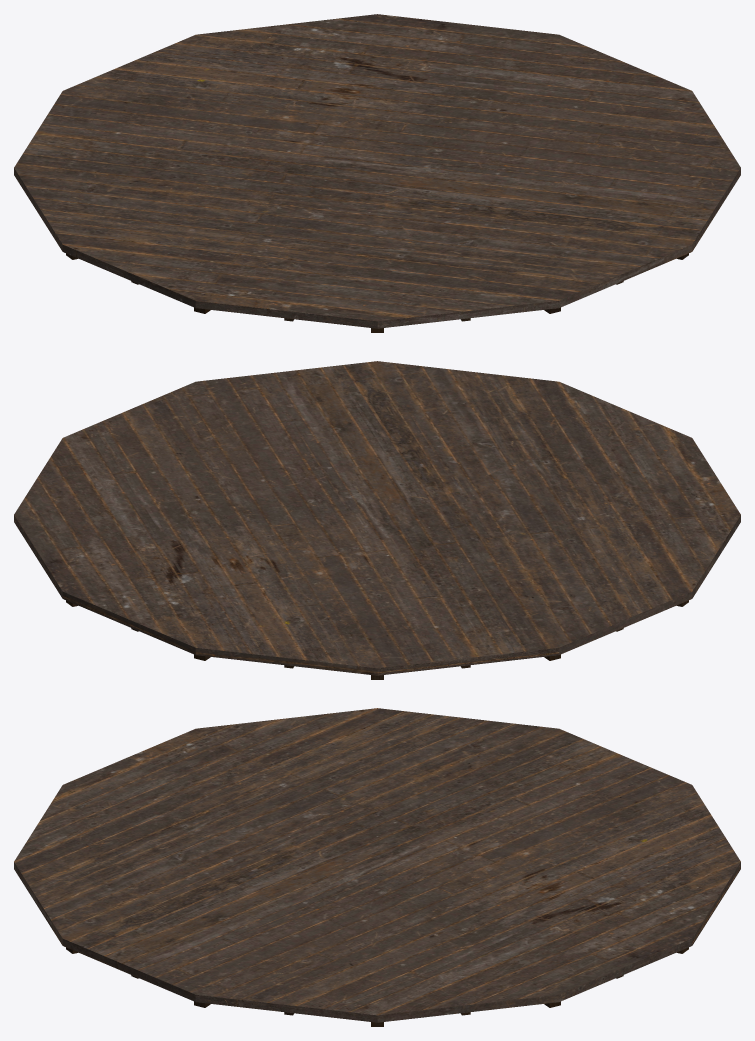
File: Podłoga4_1.fbx
The picture shows the model from 3 angles, top to bottom: view 1: azimuth 30°, elevation 25°; view 2: azimuth 150°, elevation 25°; view 3: azimuth 270°, elevation 25°; orthographic projection.
Parts seen in each view (by area): view 1: Circle.008; view 2: Circle.008; view 3: Circle.008.
Boxes of the visible parts, box(x1,y1,x2,y2) form: Circle.008: box(14, 14, 740, 332); Circle.008: box(14, 361, 740, 679); Circle.008: box(14, 708, 740, 1026).
Size of the model in its own units: 15.22 by 0.3538 by 15.22.
